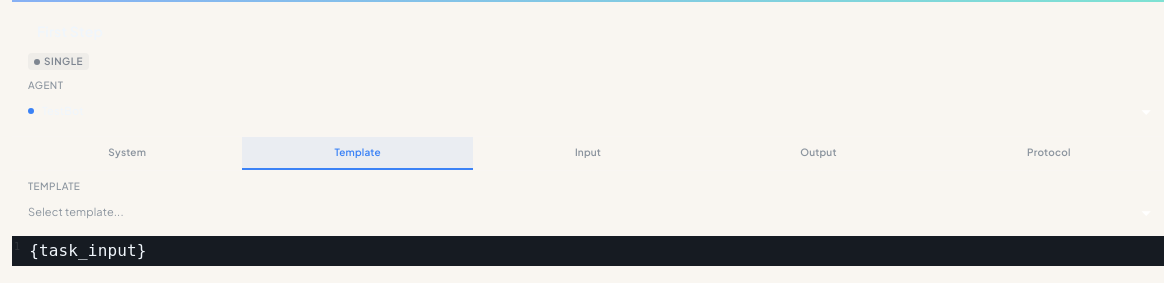
StepProperties › output tab › renders schema placeholder when no schema assigned
// Switch to output tab
Click the tab "Output" at {"x": 818, "y": 152}, box [800, 146, 837, 158]
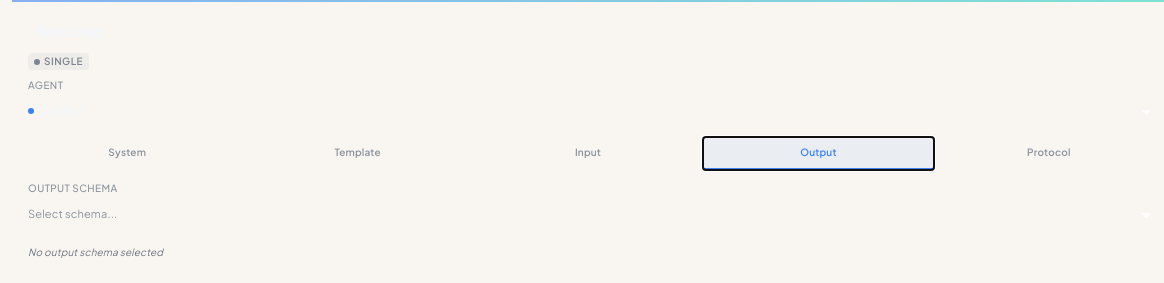
Expected: the text "Select schema..." is shown, [28, 206, 117, 222]
